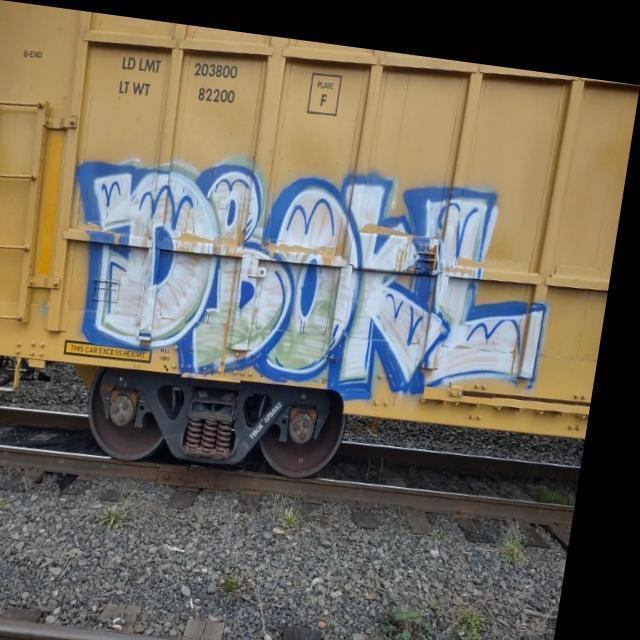-: (48, 110, 586, 398), (104, 37, 174, 94), (188, 44, 246, 104), (308, 59, 349, 118), (18, 42, 54, 72)
